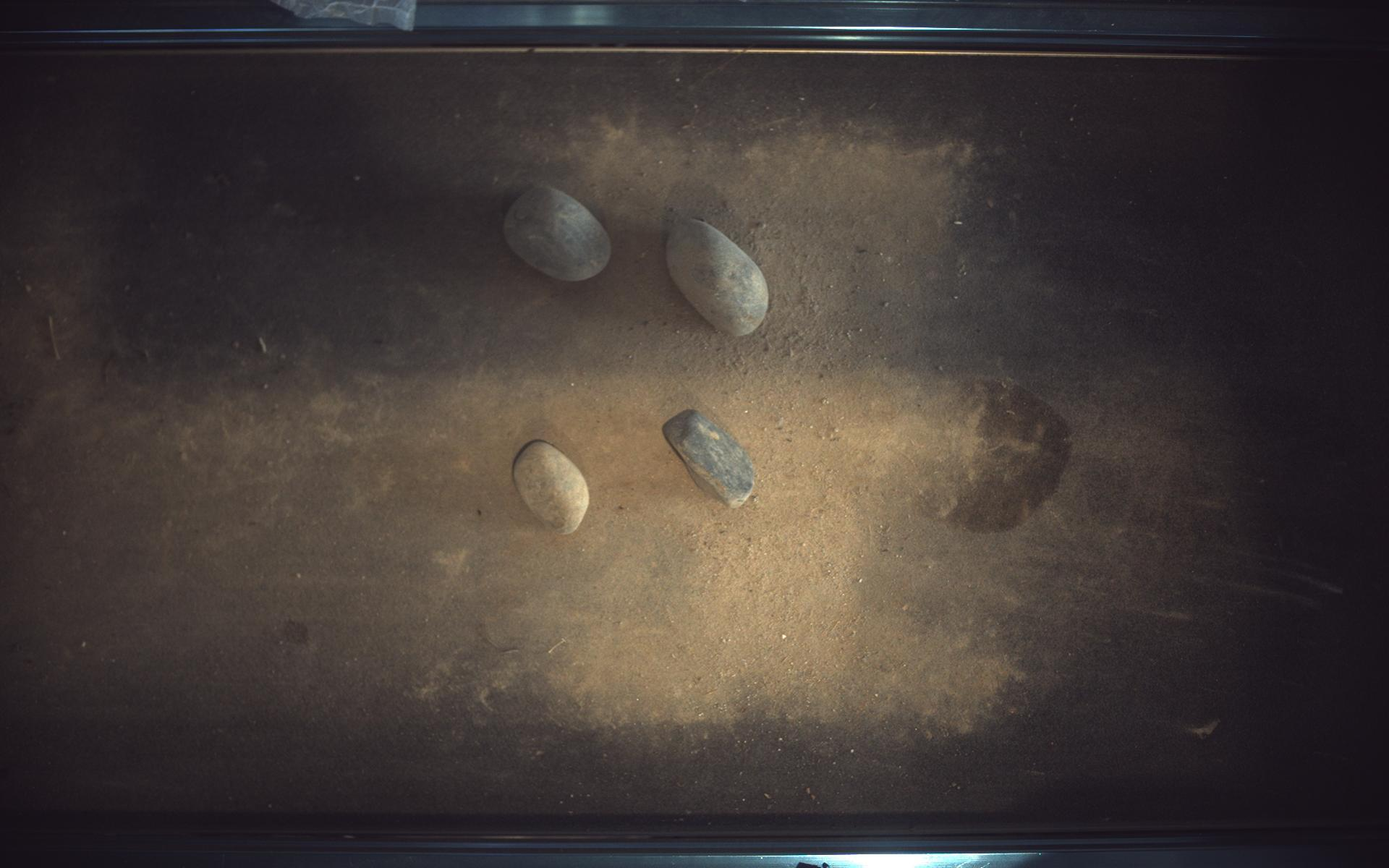stone: (667, 218, 770, 336), (504, 184, 611, 281), (664, 409, 756, 509), (513, 440, 590, 535)
